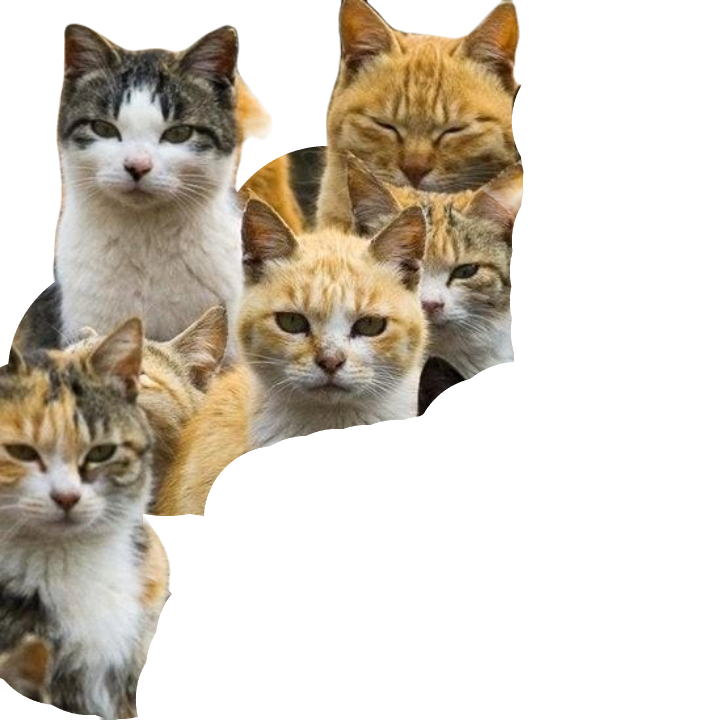Cat: (45, 6, 249, 368), (0, 360, 176, 720), (318, 5, 522, 226), (232, 225, 417, 424)
